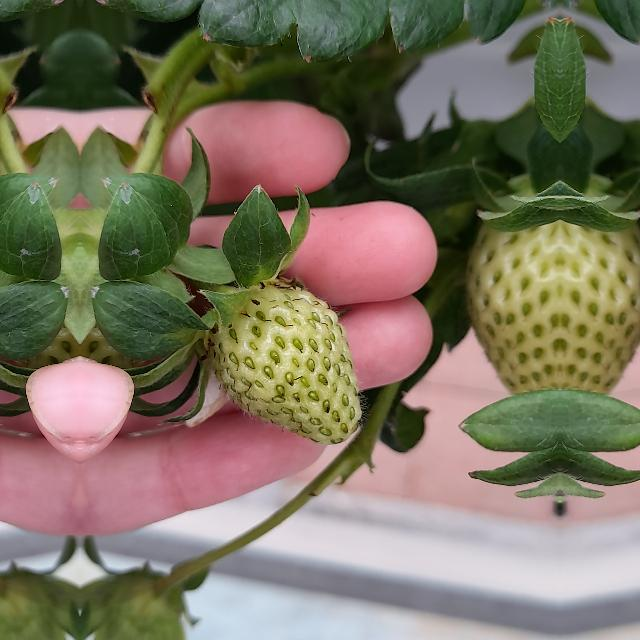Health_25: (208, 278, 362, 444), (465, 185, 559, 417), (561, 185, 640, 417)
